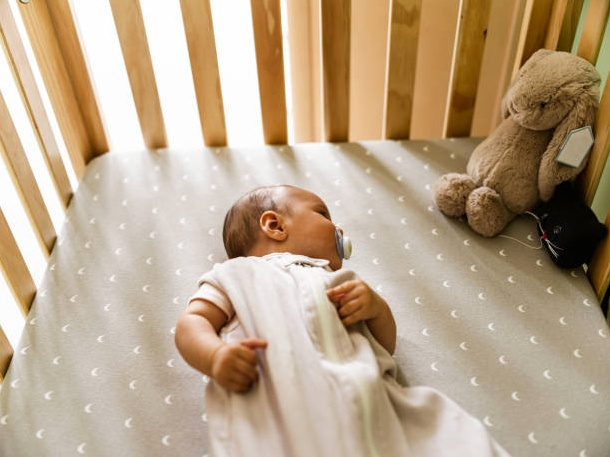baby: (175, 185, 507, 456)
crib: (0, 0, 609, 454)
